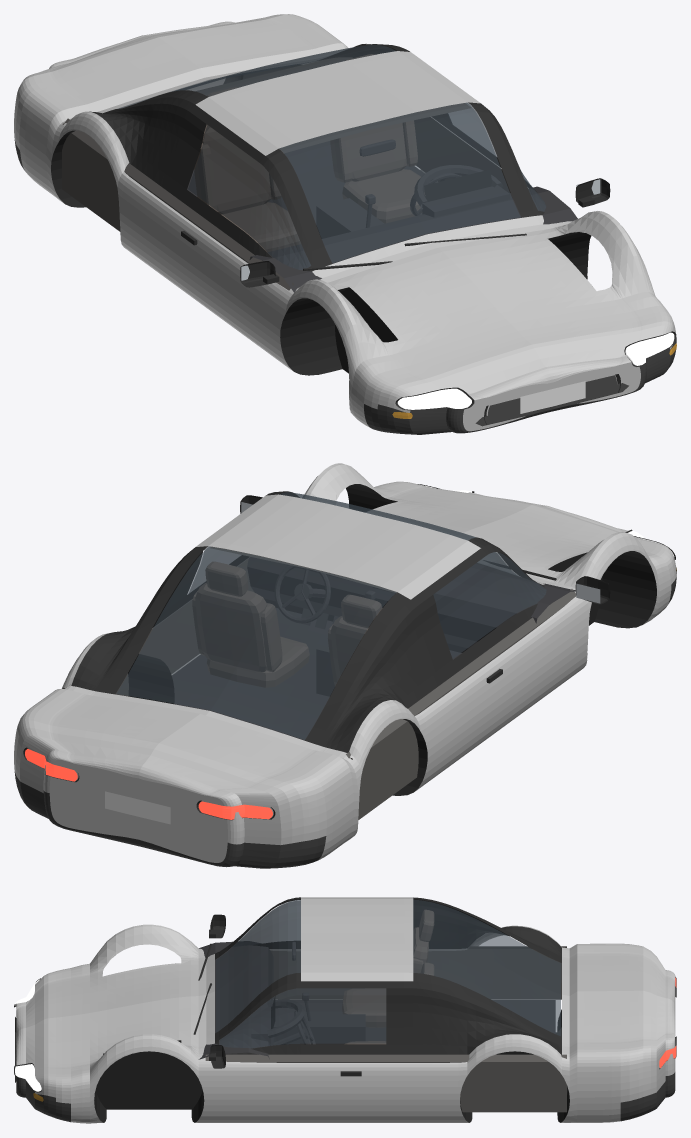
Rendered from car_apex.fbx.
3 renders of one model, top to bottom at view 1: azimuth 30°, elevation 25°; view 2: azimuth 150°, elevation 25°; view 3: azimuth 270°, elevation 25°, orthographic. The views are drawn at different scales.
Parts seen in each view (by area): view 1: apex__hood, apex__glass, apex__trunk, apex__roof, apex__interior, apex__seats, apex__pillars, apex__cabin, apex__quarterR, apex__doorR, apex__wells, apex__fenderFR (+10 smaller); view 2: apex__glass, apex__trunk, apex__interior, apex__pillars, apex__roof, apex__hood, apex__quarterR, apex__seats, apex__rearPanel, apex__cabin, apex__doorR, apex__wells (+8 smaller); view 3: apex__glass, apex__hood, apex__cabin, apex__trunk, apex__pillars, apex__quarterL, apex__interior, apex__doorL, apex__roof, apex__wells, apex__fenderFL, apex__seals (+7 smaller).
Boxes of the visible parts, x1,y1,x2,y2 form: apex__hood: (328, 211, 662, 400); apex__glass: (118, 44, 545, 269); apex__trunk: (28, 14, 572, 289); apex__roof: (195, 51, 480, 155); apex__interior: (187, 139, 577, 292); apex__seats: (194, 54, 425, 252); apex__pillars: (98, 44, 544, 271); apex__cabin: (62, 57, 510, 290); apex__quarterR: (14, 75, 171, 282); apex__doorR: (163, 208, 282, 362); apex__wells: (51, 130, 591, 375); apex__fenderFR: (273, 279, 418, 427); apex__glass: (116, 492, 546, 739); apex__trunk: (28, 560, 575, 801); apex__interior: (172, 557, 575, 740); apex__pillars: (77, 491, 544, 751); apex__roof: (196, 494, 480, 599); apex__hood: (309, 464, 661, 588); apex__quarterR: (235, 682, 471, 860); apex__seats: (192, 561, 382, 687); apex__rearPanel: (43, 750, 244, 862); apex__cabin: (62, 546, 576, 819); apex__doorR: (462, 600, 581, 756); apex__wells: (128, 484, 656, 795); apex__glass: (216, 899, 561, 1048); apex__hood: (16, 926, 198, 1077); apex__cabin: (205, 946, 566, 1112); apex__trunk: (198, 944, 675, 1056); apex__pillars: (215, 897, 561, 1052); apex__quarterL: (390, 1034, 665, 1122); apex__interior: (198, 941, 555, 1059); apex__doorL: (215, 1061, 390, 1122); apex__roof: (301, 897, 413, 981); apex__wells: (94, 1009, 569, 1122); apex__fenderFL: (35, 1034, 214, 1123); apex__seals: (225, 926, 561, 1054).
Size of the model in its own units: 2.42 by 1.09 by 4.77.
